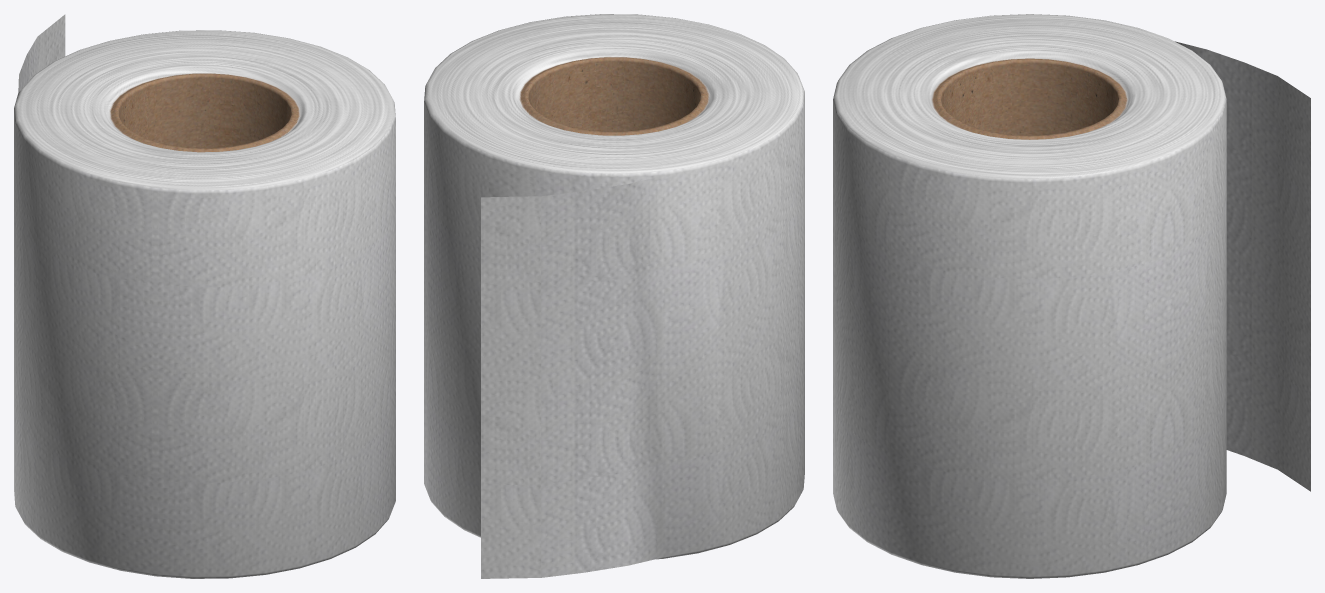
Rendered from Toilet_Paper.fbx.
The picture shows the model from 3 angles, left to right: view 1: azimuth 30°, elevation 25°; view 2: azimuth 150°, elevation 25°; view 3: azimuth 270°, elevation 25°; orthographic projection. The views are drawn at different scales.
Parts seen in each view (by area): view 1: Toilet_Paper; view 2: Toilet_Paper; view 3: Toilet_Paper.
Part boxes in pixels (x1,y1,x2,y2): Toilet_Paper: (14, 14, 395, 578); Toilet_Paper: (424, 14, 804, 578); Toilet_Paper: (833, 14, 1310, 578).
Bounding box in the file's own units: 12.34 × 13.91 × 14.98.
